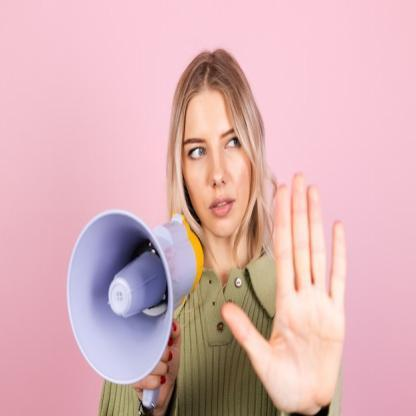stop: (220, 167, 352, 415)
